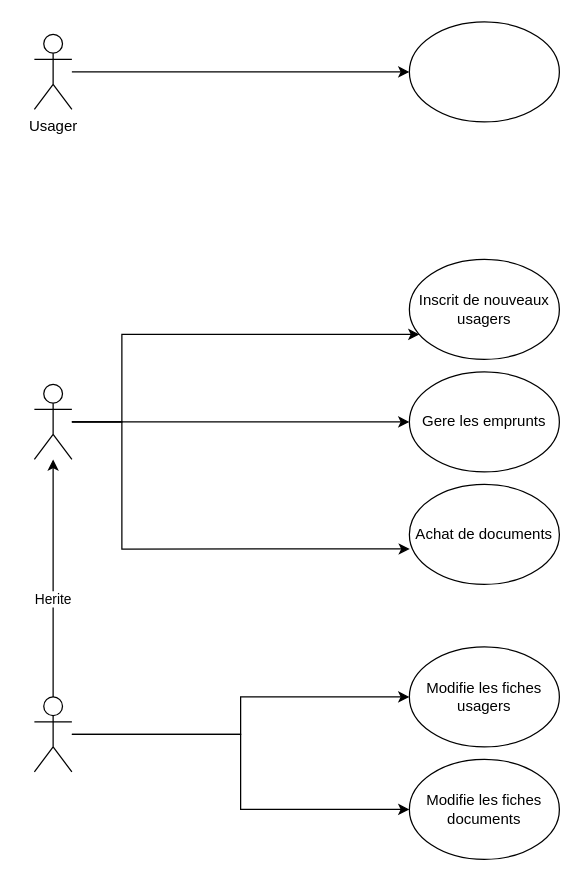
Some shapes in this 581 by 881 pixel diagram are drawn without their labels. The box of each missing label's shape, as (x1, y1, x2, y2) in pixels:
Bénévole: (33, 383, 72, 459)
Consulte la liste des documents: (408, 21, 559, 122)
Employé: (33, 696, 72, 772)
